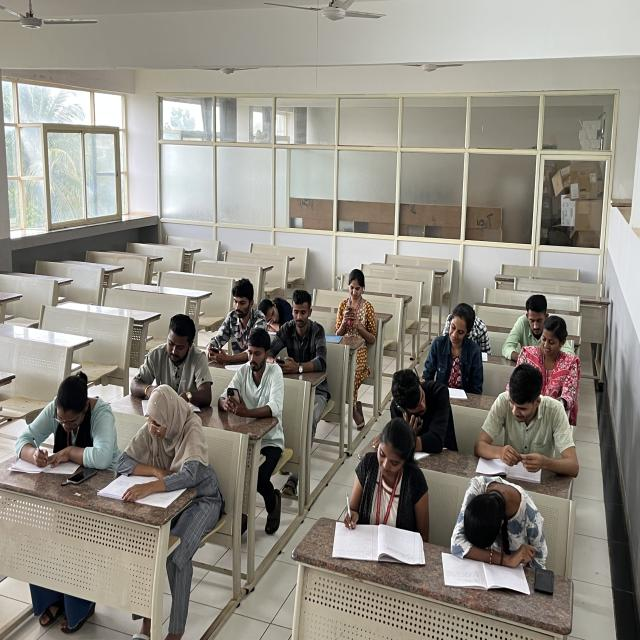Reading: (109, 390, 211, 510)
Sleeping: (451, 473, 553, 573)
Using Phone: (476, 368, 580, 473), (219, 332, 285, 418), (270, 287, 329, 373), (200, 286, 261, 366), (326, 272, 376, 340)
Writing: (330, 425, 426, 555), (16, 369, 120, 470), (411, 301, 484, 394)
